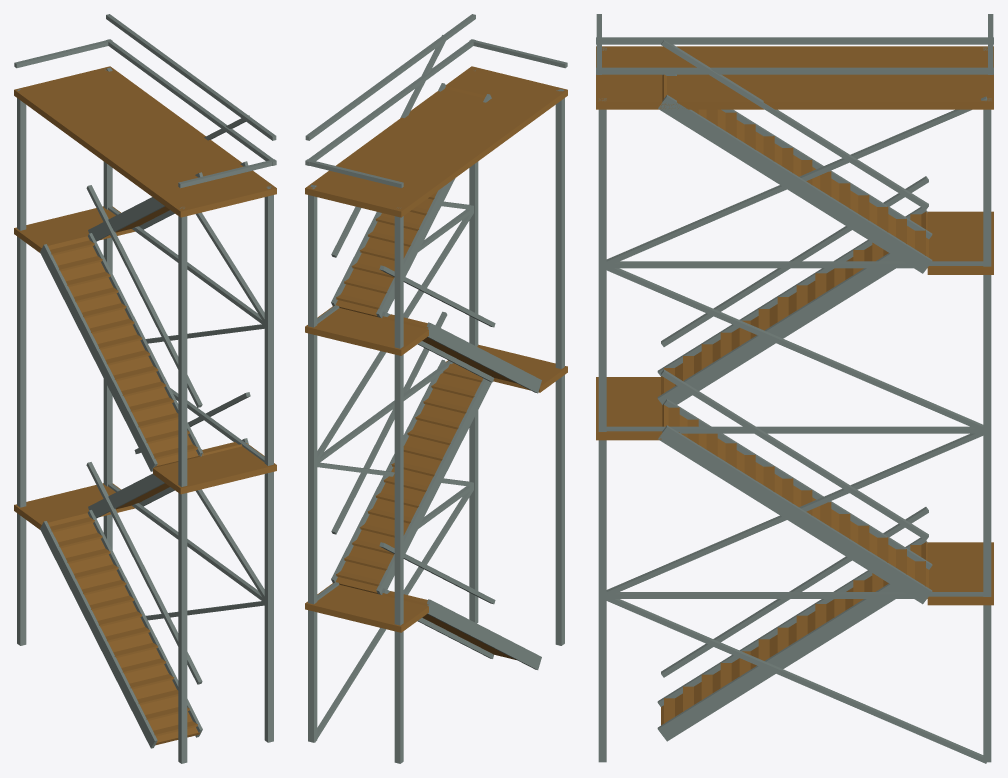
The model's file is SM_EscaleraAzotea_v3_Andamio_LOD0.fbx.
3 renders of one model, left to right at view 1: azimuth 30°, elevation 25°; view 2: azimuth 150°, elevation 25°; view 3: azimuth 270°, elevation 25°, orthographic. The views are drawn at different scales.
Visible parts, largest first — view 1: SM_escalera_azotea_v3_LOD0; view 2: SM_escalera_azotea_v3_LOD0; view 3: SM_escalera_azotea_v3_LOD0.
Part boxes in pixels (left/top/right/bottom): SM_escalera_azotea_v3_LOD0: left=14, top=14, right=276, bottom=763; SM_escalera_azotea_v3_LOD0: left=305, top=14, right=567, bottom=763; SM_escalera_azotea_v3_LOD0: left=596, top=14, right=993, bottom=763.
Size of the model in its own units: 2.02 by 12.14 by 6.
